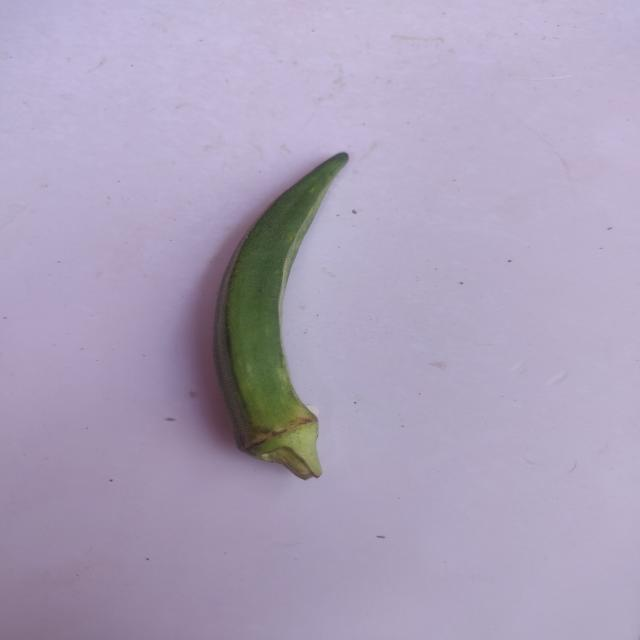Ladies Finger: (206, 143, 375, 508)
